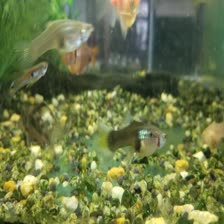Guppy: (13, 13, 98, 62), (89, 114, 173, 162), (7, 55, 52, 101), (196, 114, 223, 154)
Kiros: (0, 87, 56, 145)
